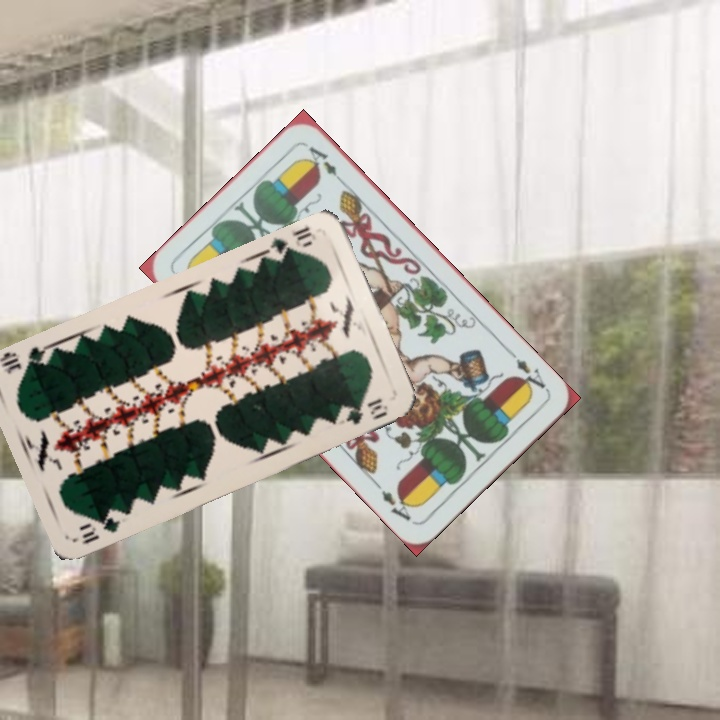EA: (505, 347, 551, 396)
G10: (264, 221, 319, 264), (75, 511, 123, 548)
